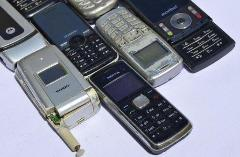electronic: (1, 52, 106, 157), (82, 71, 204, 156), (126, 1, 240, 81), (88, 12, 186, 100), (24, 7, 118, 75)
